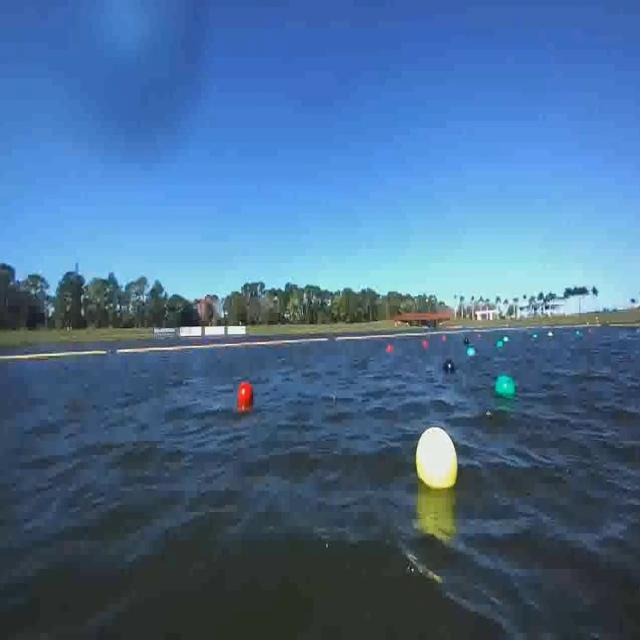black-buoy: (444, 358, 457, 373)
green-buoy: (495, 373, 515, 398)
red-buoy: (239, 382, 254, 405)
yellow-buoy: (415, 427, 458, 490)
